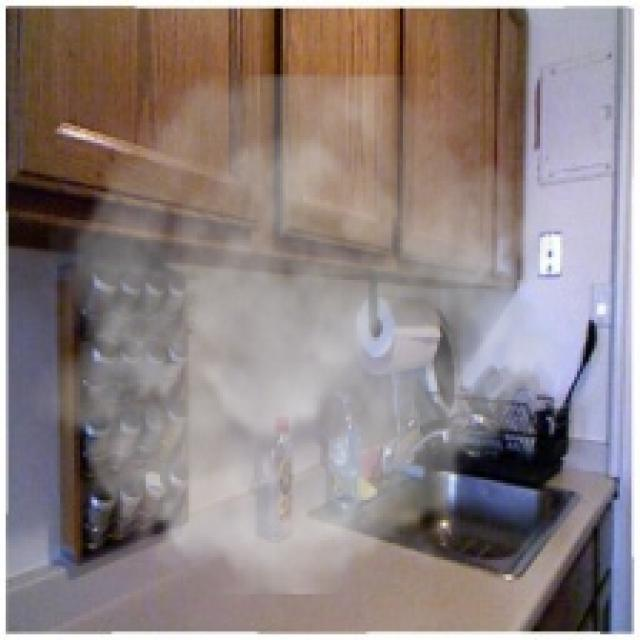smoke: (29, 75, 572, 594)
